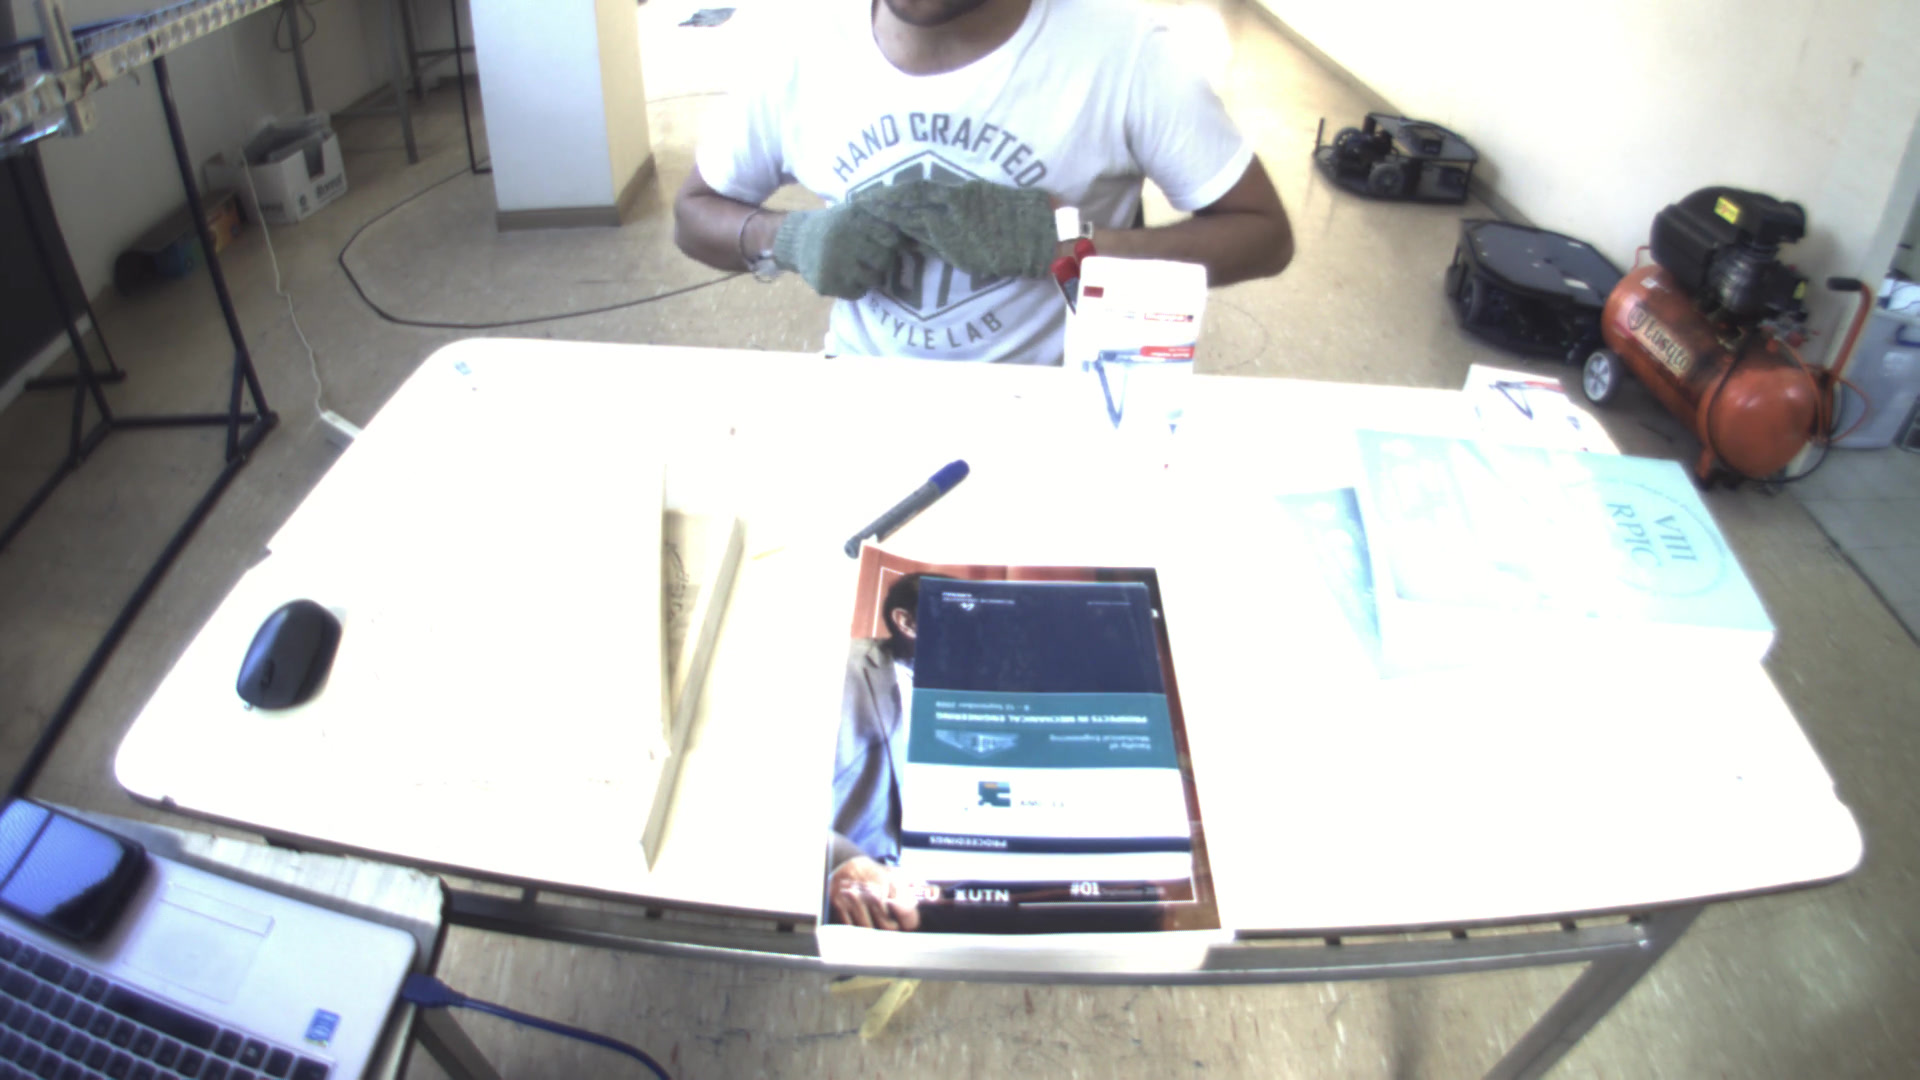hand: (858, 169, 1068, 291), (748, 193, 907, 302)
